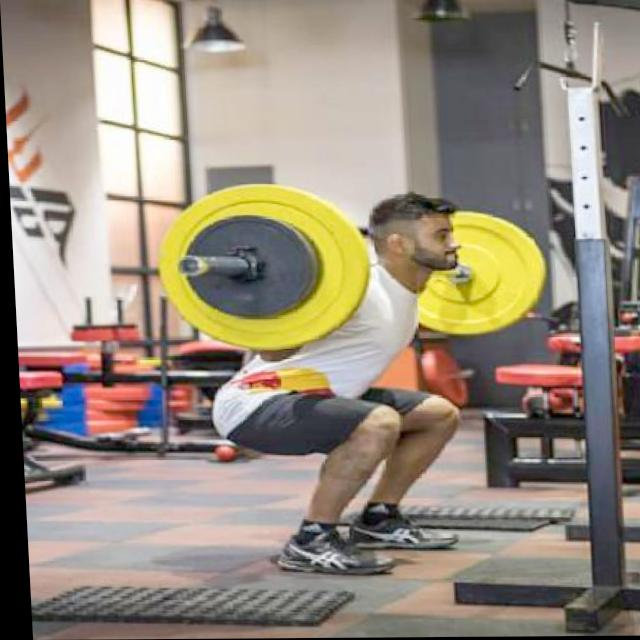barbell: (145, 177, 375, 355)
